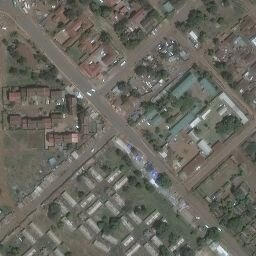tree: (155, 172, 171, 186), (225, 216, 240, 229), (47, 202, 60, 216), (99, 4, 110, 17), (153, 222, 166, 233), (134, 65, 146, 75), (221, 70, 232, 80), (129, 88, 140, 98), (117, 80, 126, 92), (99, 30, 108, 41), (113, 23, 124, 32), (168, 232, 179, 241), (128, 175, 137, 185), (159, 69, 168, 79), (133, 205, 144, 213), (213, 62, 225, 69), (147, 68, 157, 76), (132, 169, 141, 177), (8, 66, 17, 74), (16, 57, 24, 65), (77, 190, 84, 198), (216, 17, 224, 24), (19, 69, 27, 76), (114, 149, 122, 155), (118, 164, 124, 170), (208, 49, 214, 55), (122, 185, 128, 191), (135, 182, 140, 187), (158, 134, 162, 138)
